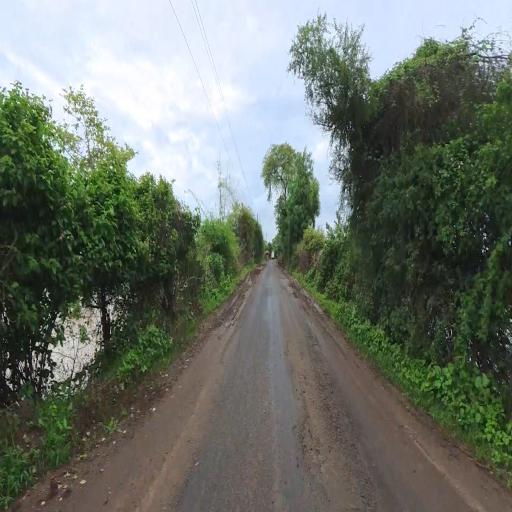ravelling: (275, 308, 373, 512)
